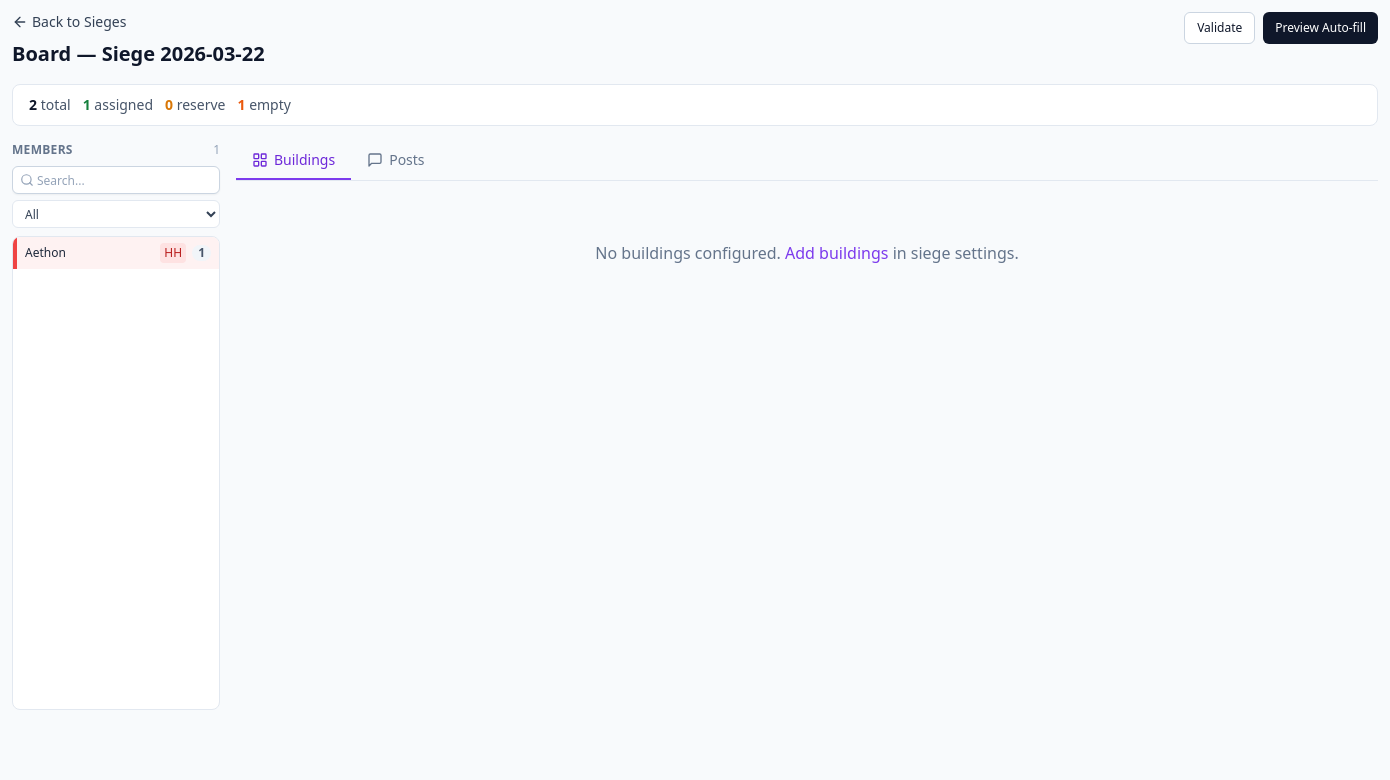
Scenario: PostsTab — inline duplicate-condition indicator (#196) › post-click amber confirmation dialog still appears when Assign is clicked for a duplicate (additive behavior)
Click the button "Posts". click: (396, 161)
box: [351,142,441,180]
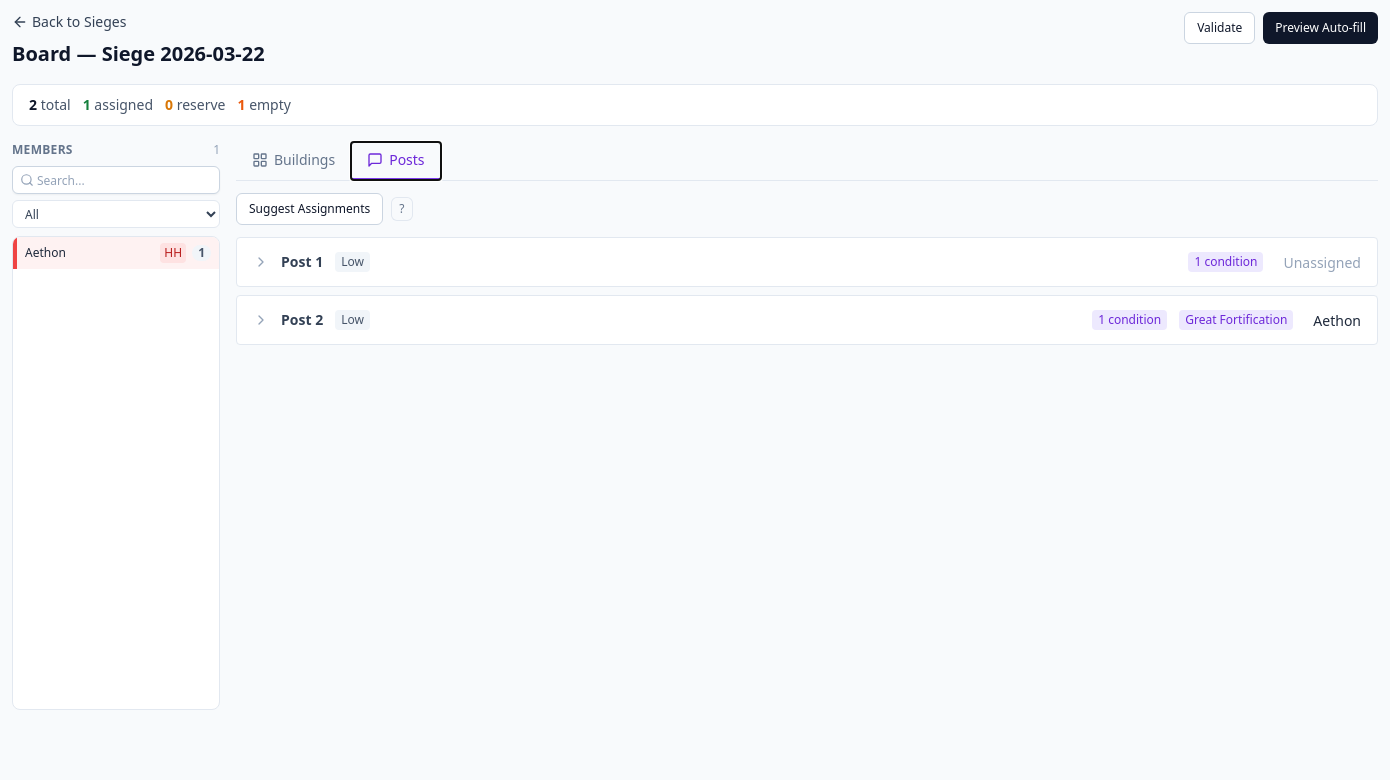
Click the button "Post 1 Low 1 condition Unassigned". click: (298, 262)
box: [237,238,1377,286]
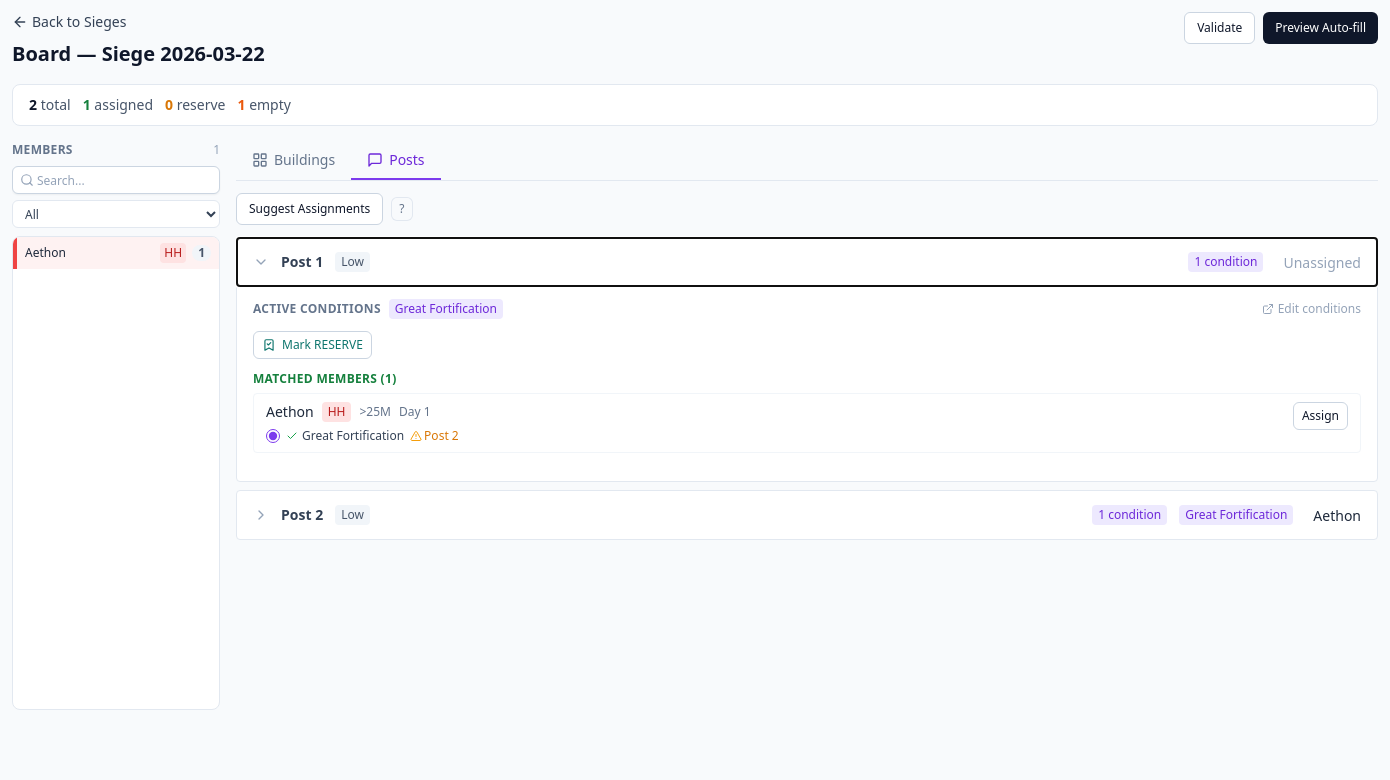
Now the button "Assign" is shown
Click the button "Assign". click: (1320, 416)
box: [1293,402,1348,430]
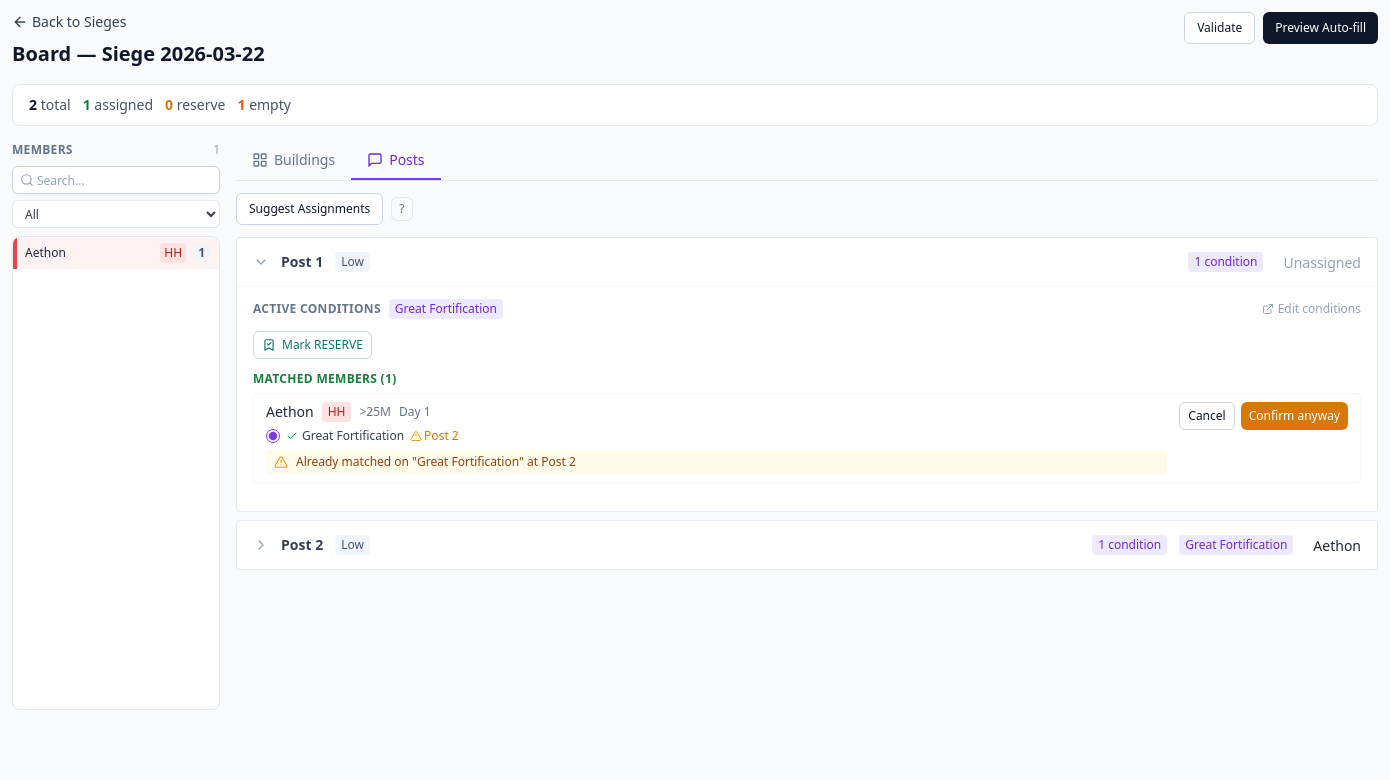
Now the button "Confirm anyway" is shown, box [1241,402,1348,430]
